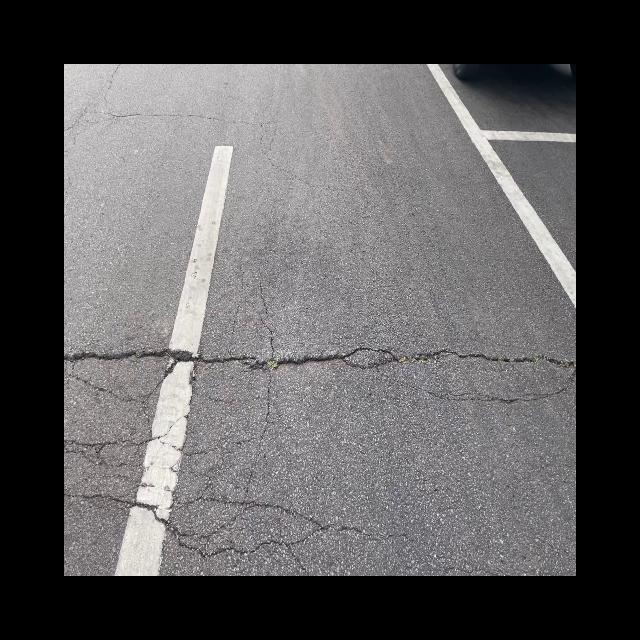retak_memanjang: (64, 304, 576, 402), (64, 472, 373, 572)
